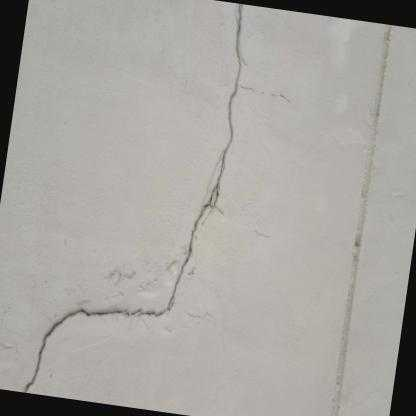crack: (22, 2, 240, 392)
